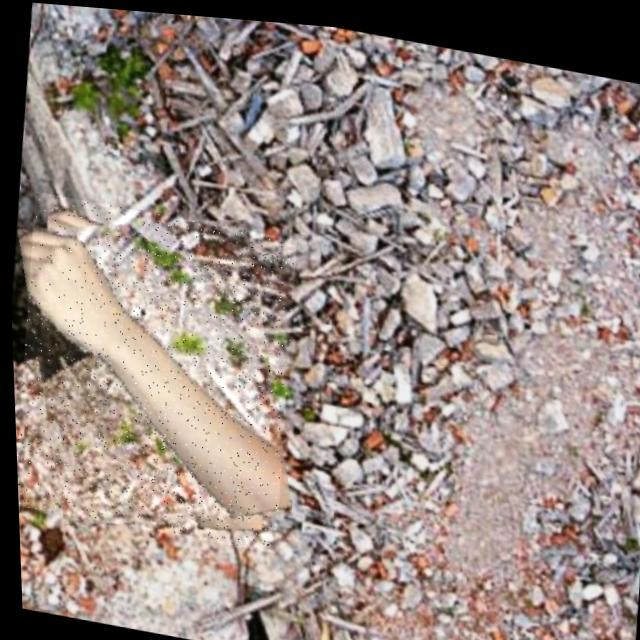Person in Rubble: (5, 188, 304, 551)
